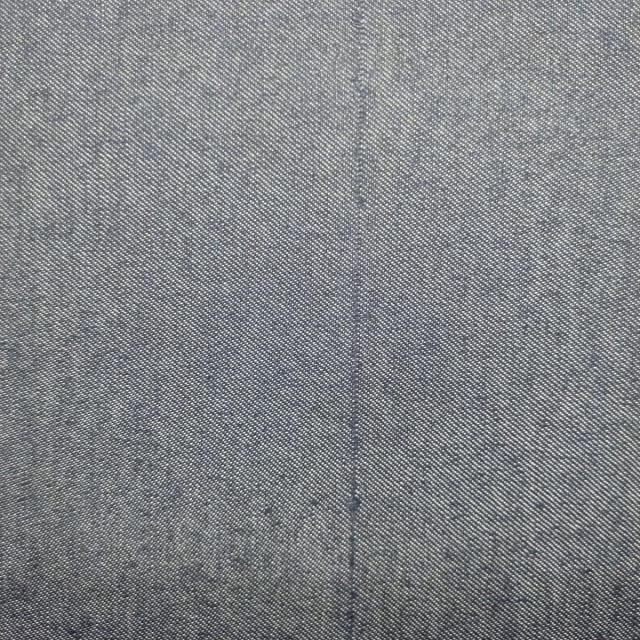Line: (345, 0, 365, 640)
